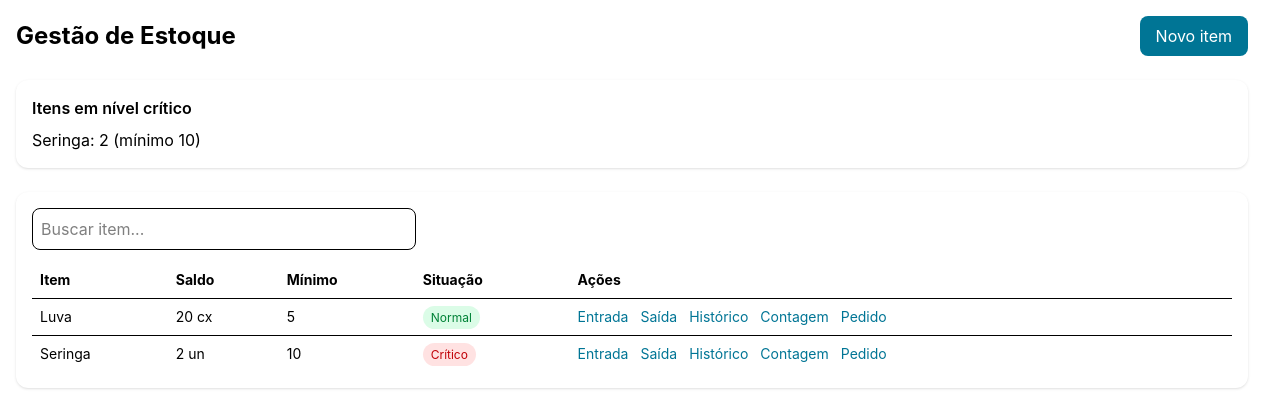
Test: Página de Estoque › FE-26 filtra a tabela pela busca
The width and height of the screenshot is (1265, 406).
In the search field labelled "Buscar item": {"x": 224, "y": 229} [32,208,416,250], type "sering"
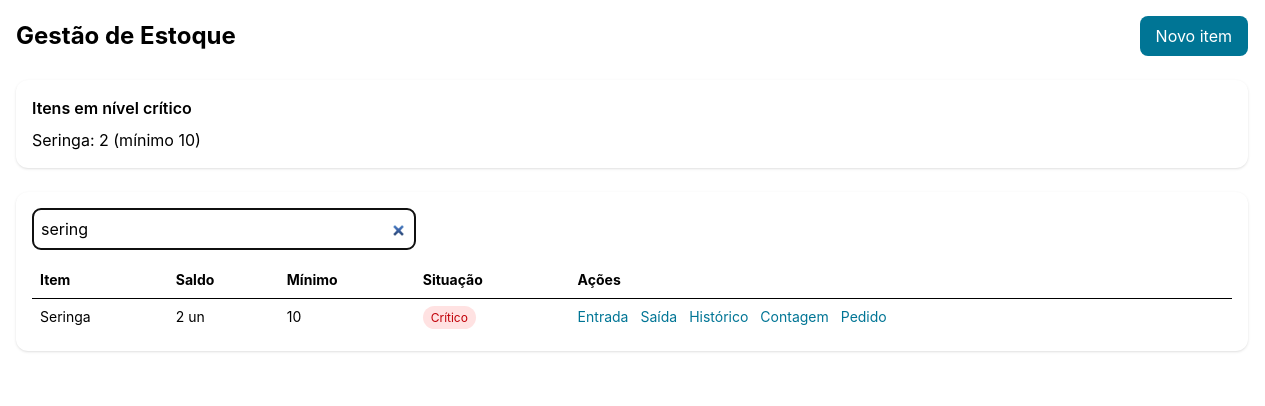
expect the text "Seringa" is shown: met, box [32,298,168,335]
expect the text "Luva" is gone: met
